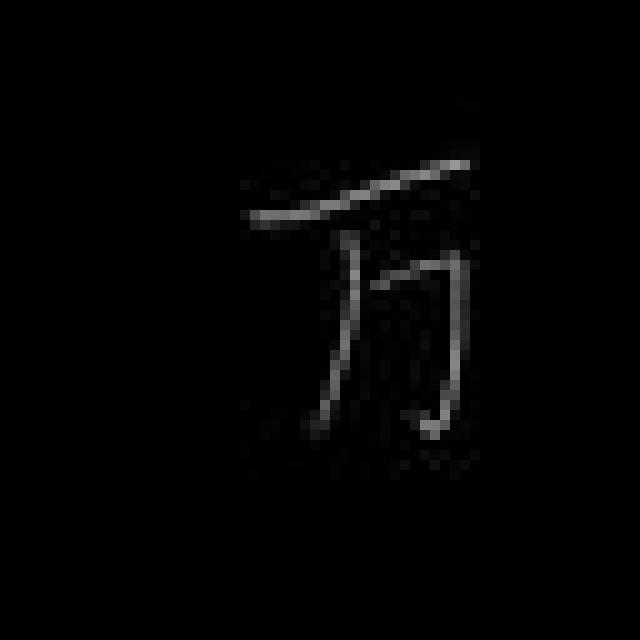10000 -a ten thousand-: (232, 137, 492, 458)
